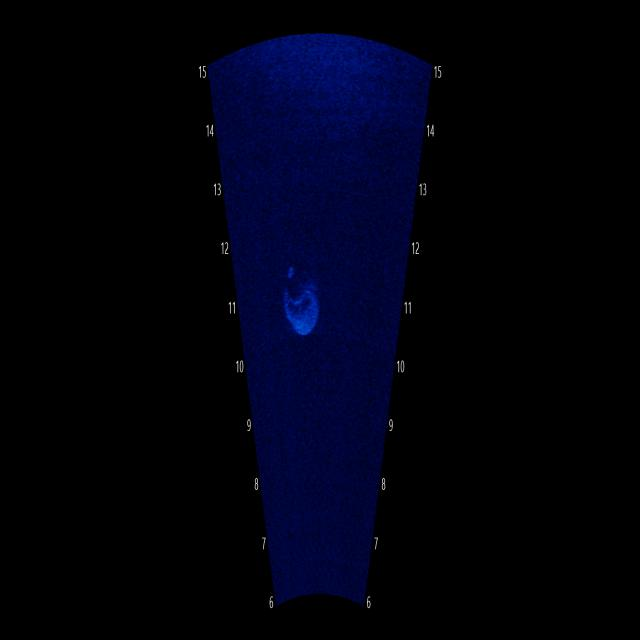circle: (270, 226, 328, 352)
